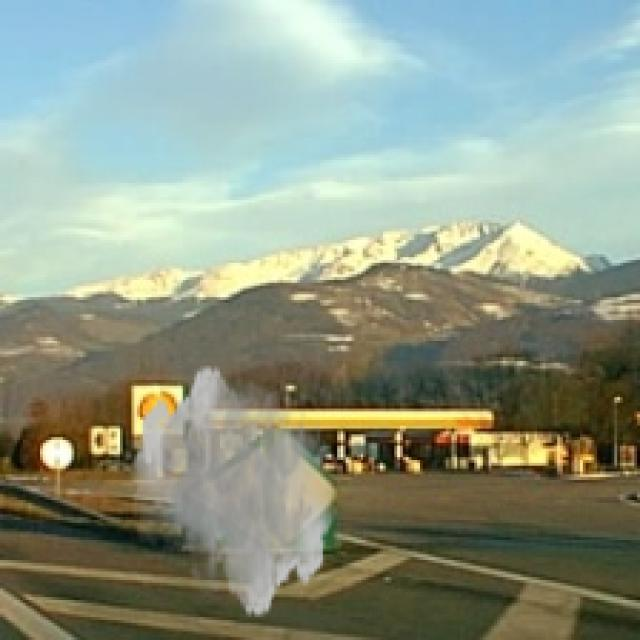Smoke: (128, 363, 338, 620)
